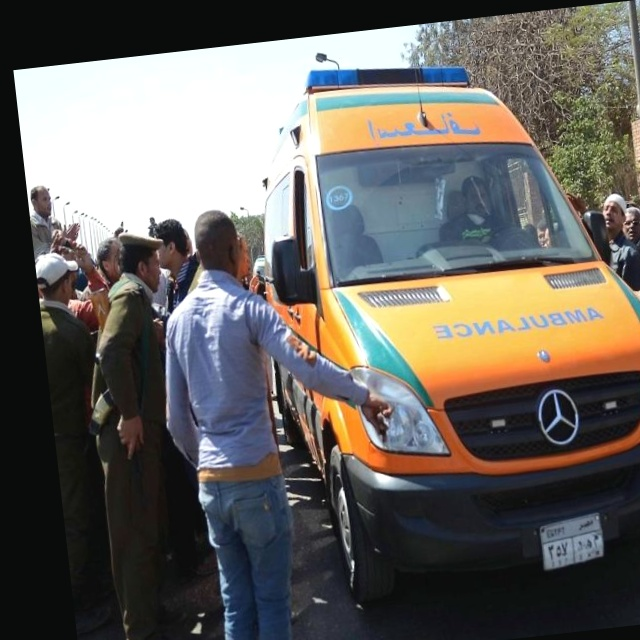Ambulance: (232, 16, 640, 614)
person: (142, 192, 419, 640)
